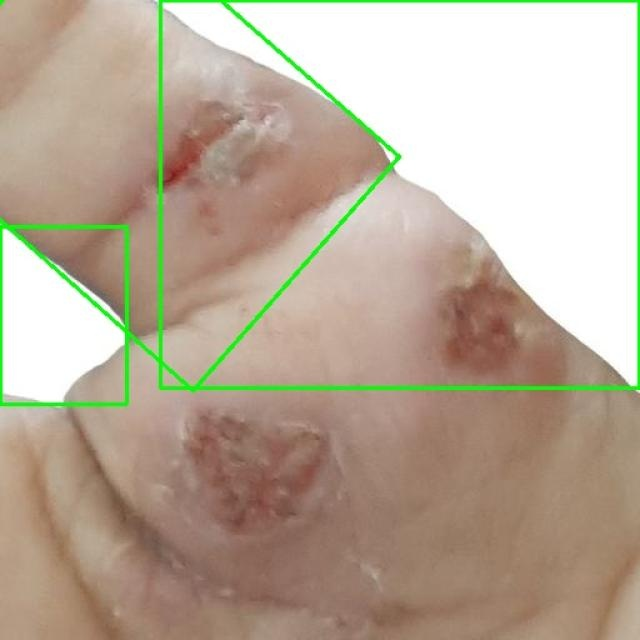Eczema: (160, 0, 639, 388), (0, 0, 399, 403), (0, 226, 126, 404)
